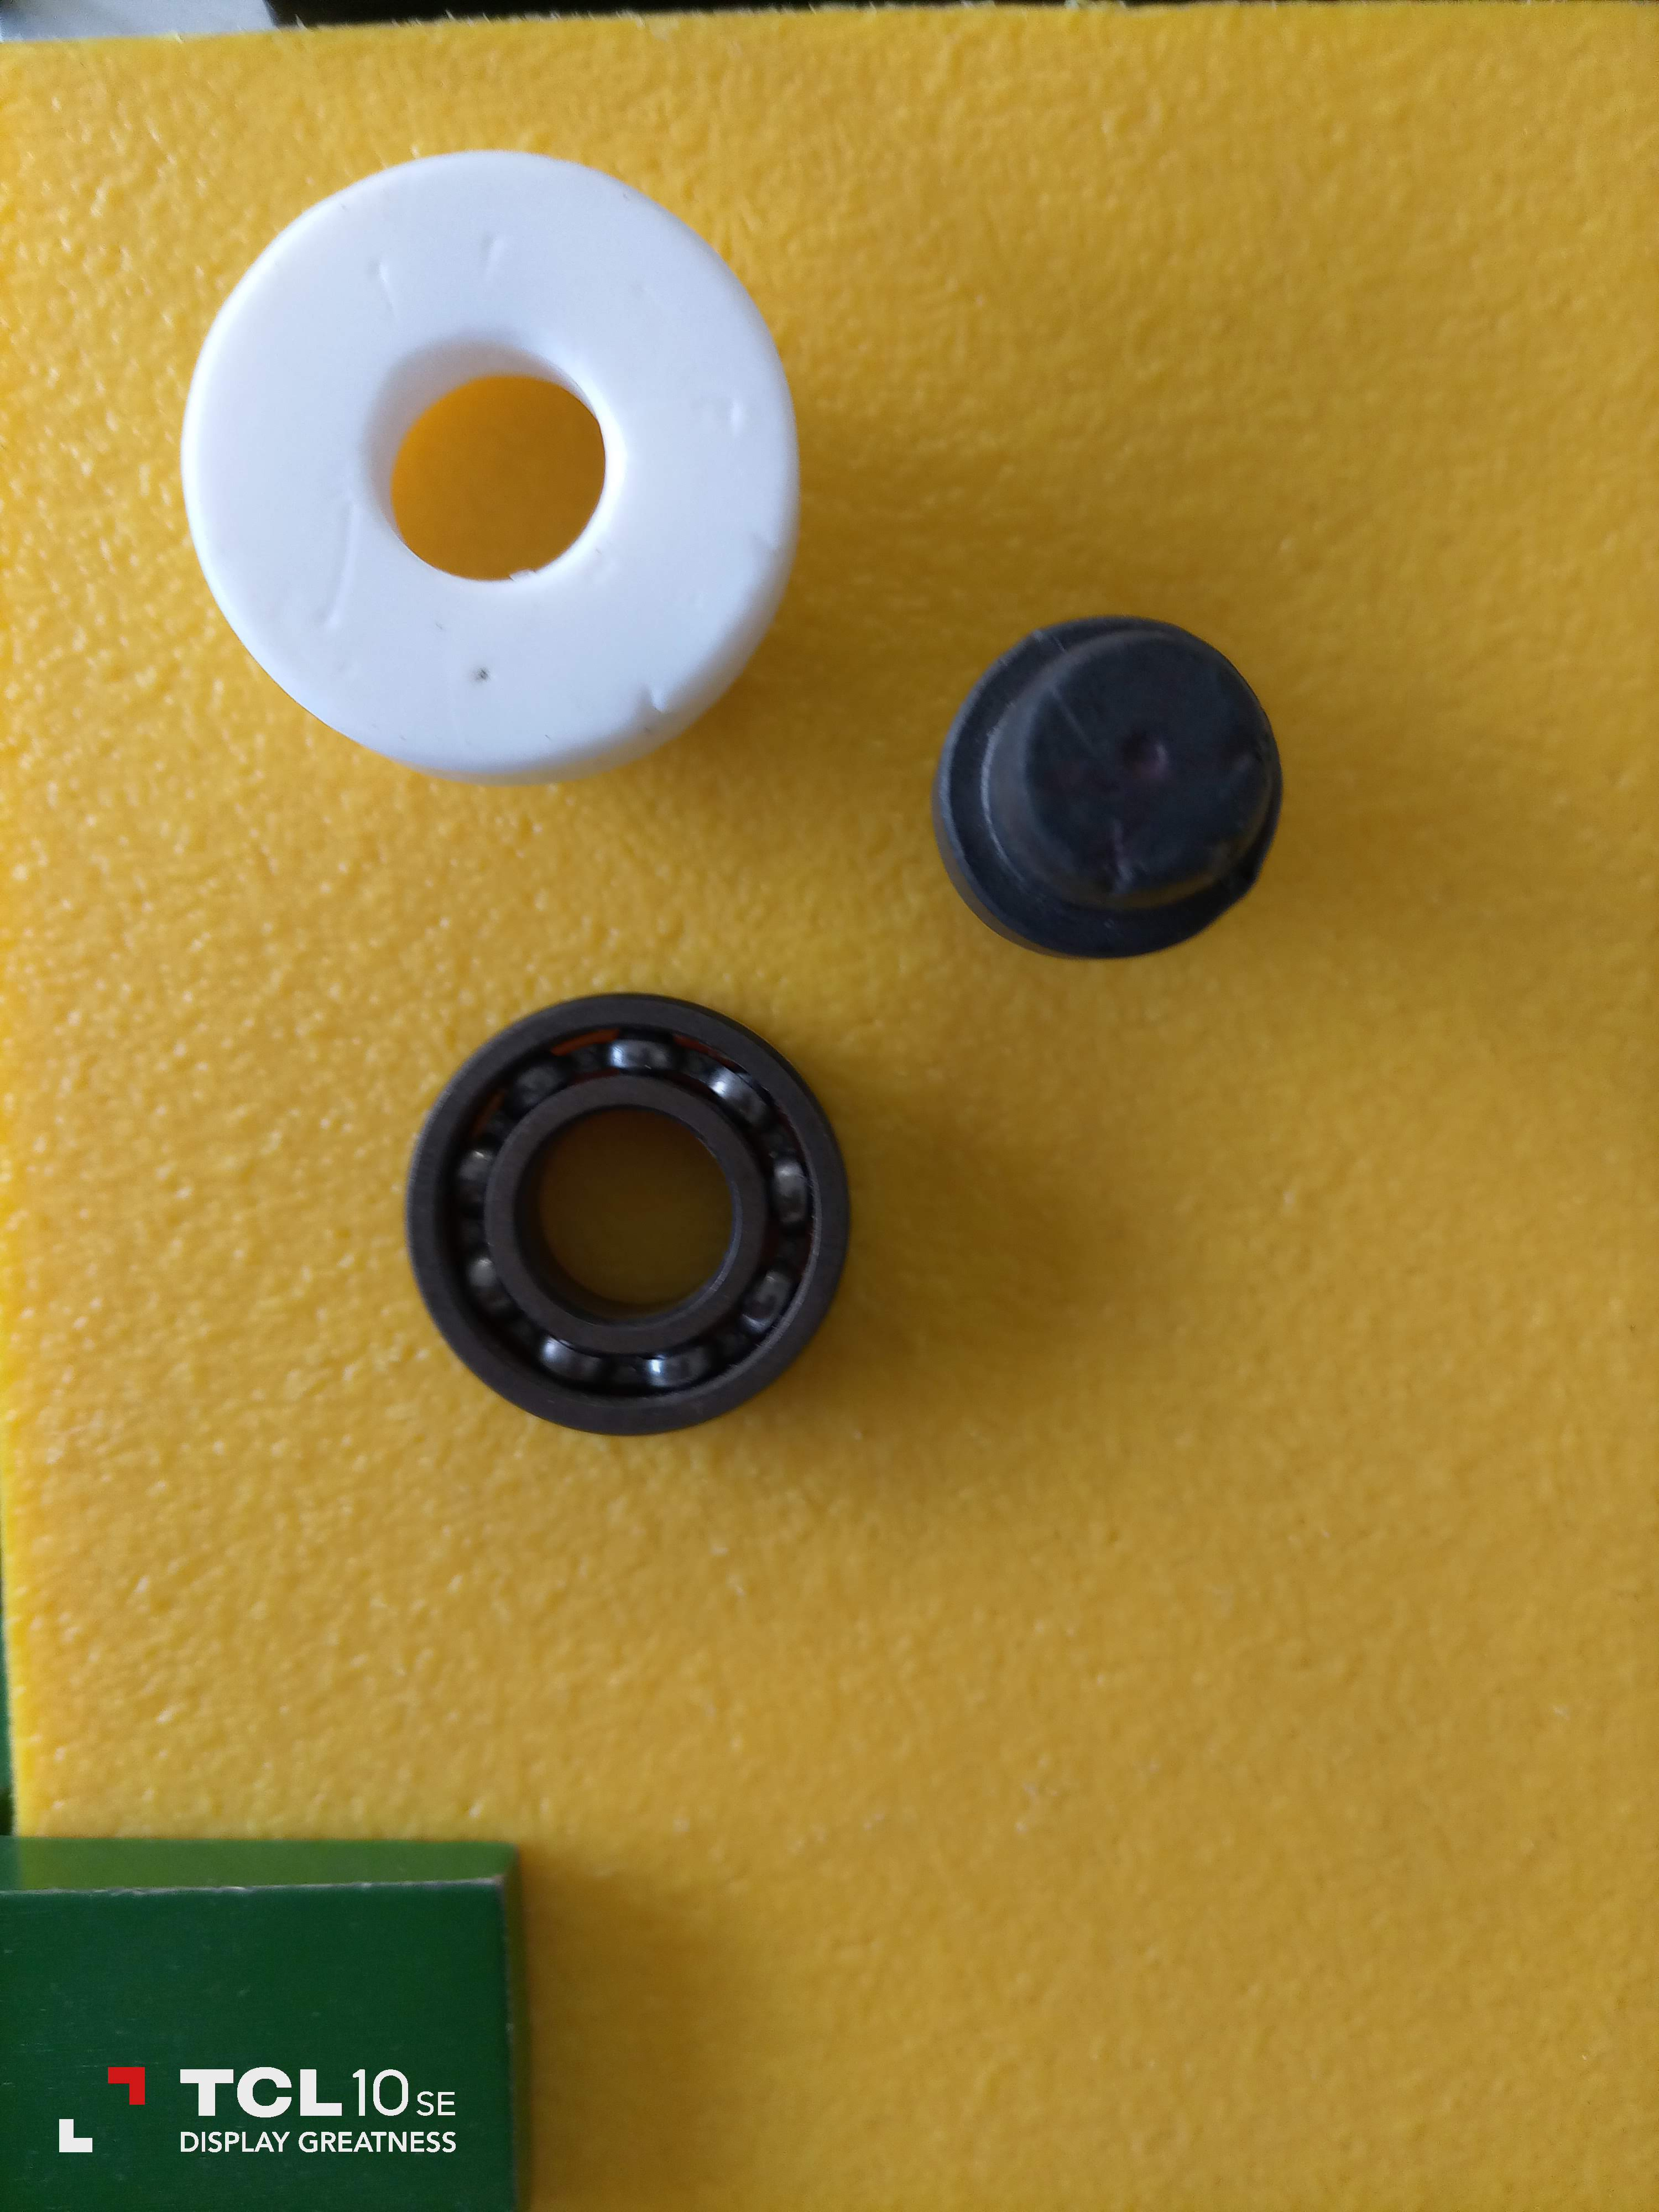Ardatza: (943, 608, 1249, 941)
Roda: (390, 984, 870, 1426)
Tapa: (173, 155, 814, 763)
